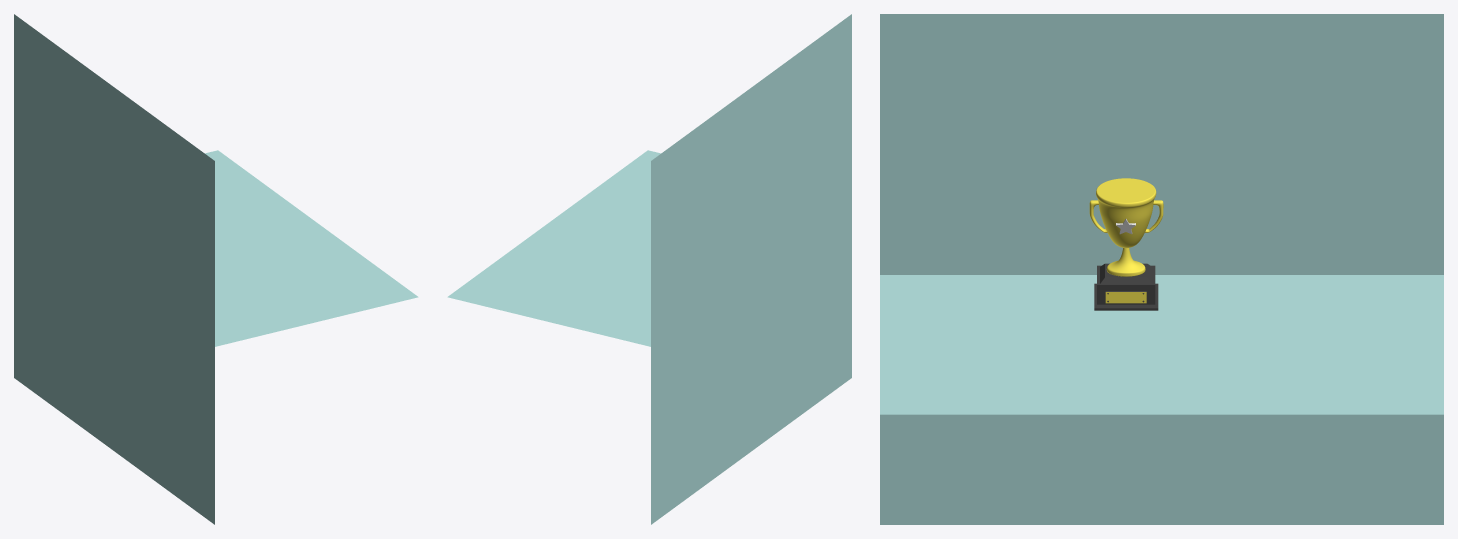
Rendered from uploads_files_3452177_Trophy+.fbx.
The picture shows the model from 3 angles, left to right: view 1: azimuth 30°, elevation 25°; view 2: azimuth 150°, elevation 25°; view 3: azimuth 270°, elevation 25°; orthographic projection. The views are drawn at different scales.
Parts seen in each view (by area): view 1: Plane; view 2: Plane; view 3: Plane, Cylinder.
Boxes of the visible parts, x1=… form: Plane: x1=14, y1=14, x2=418, y2=524; Plane: x1=447, y1=14, x2=851, y2=524; Plane: x1=880, y1=14, x2=1443, y2=524; Cylinder: x1=1089, y1=178, x2=1163, y2=310.
Size of the model in its own units: 149 by 254 by 254.
